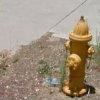Hydrant: (57, 11, 97, 96)
